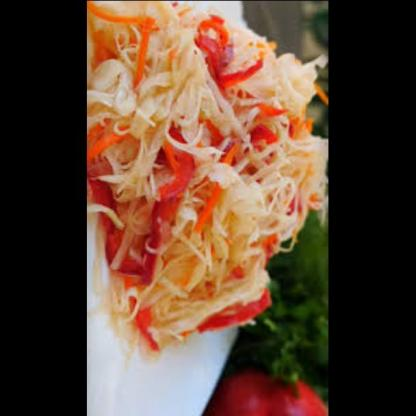cabbage: (88, 14, 232, 131), (189, 163, 302, 306), (114, 264, 203, 353), (237, 32, 320, 124), (113, 123, 170, 199), (286, 117, 330, 211)
carrot: (148, 134, 197, 262), (136, 1, 160, 84), (89, 5, 144, 26)
hot pepper: (192, 12, 265, 99), (90, 173, 128, 254), (204, 297, 275, 330), (254, 125, 282, 149)
